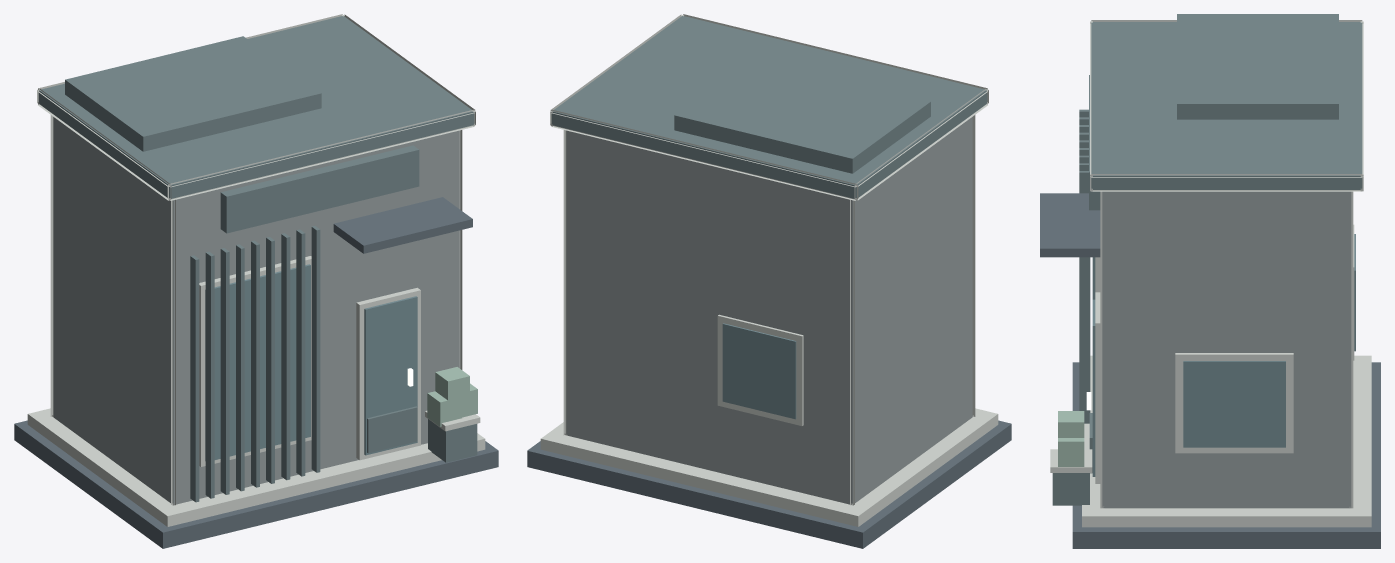
Rendered from glb-chic.glb.
The picture shows the model from 3 angles, left to right: view 1: azimuth 30°, elevation 25°; view 2: azimuth 150°, elevation 25°; view 3: azimuth 270°, elevation 25°; orthographic projection. The views are drawn at different scales.
Parts seen in each view (by area): view 1: 04 Chic Building; view 2: 04 Chic Building; view 3: 04 Chic Building.
Boxes of the visible parts, left/top/right/bottom form: 04 Chic Building: left=14, top=14, right=498, bottom=548; 04 Chic Building: left=527, top=14, right=1011, bottom=548; 04 Chic Building: left=1040, top=14, right=1380, bottom=548.
Bounding box in the file's own units: 2.58 × 2.7 × 2.19.
